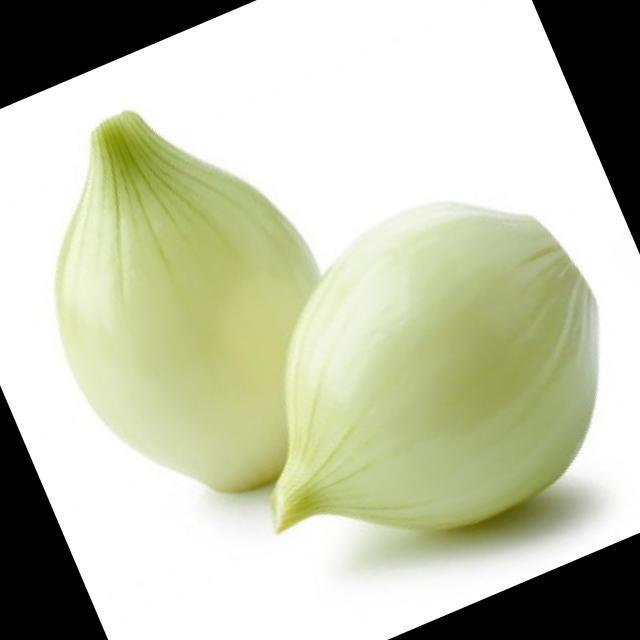Onion: (273, 205, 598, 534), (57, 106, 317, 495)
